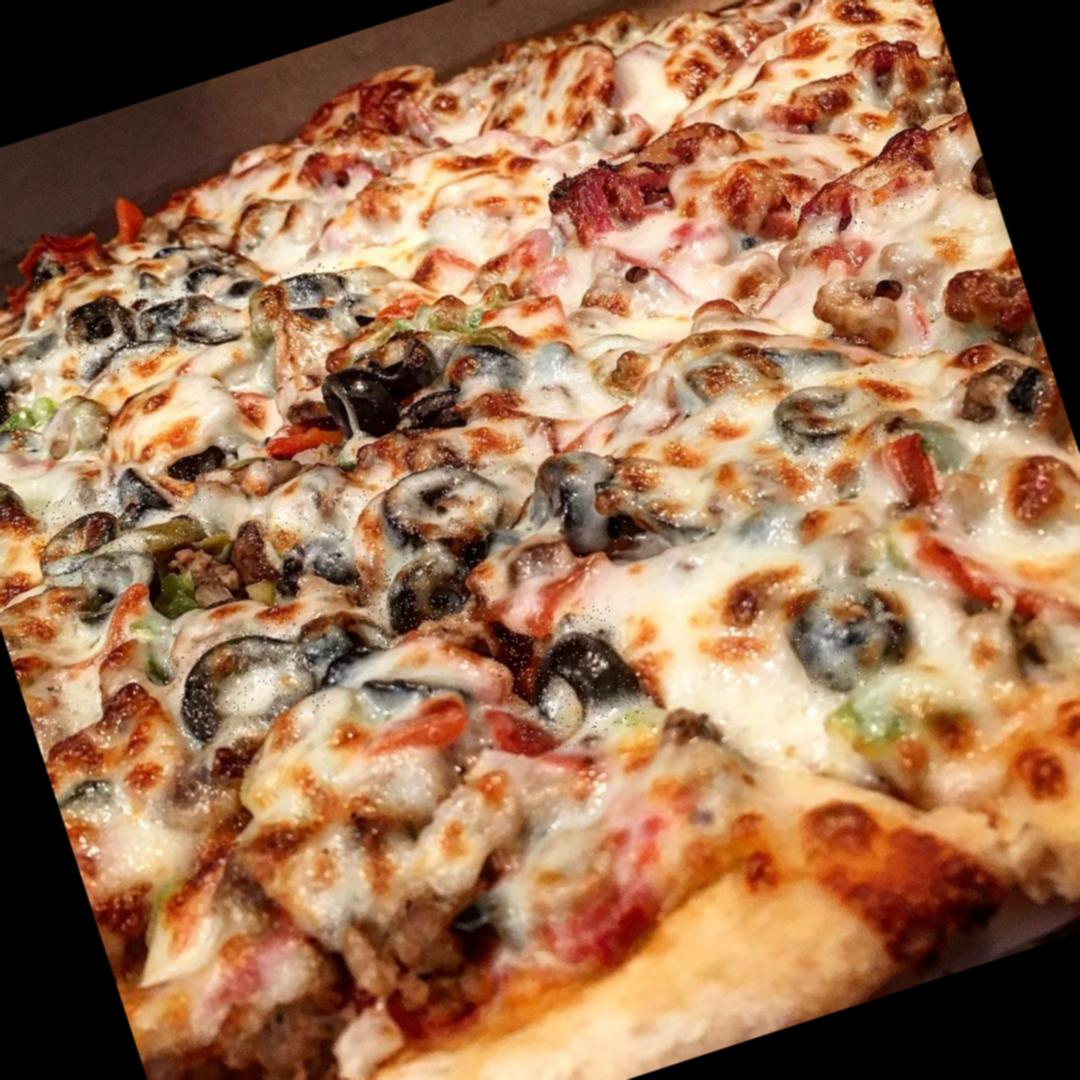Olives: (238, 450, 498, 610), (23, 454, 226, 592), (154, 609, 336, 757), (511, 417, 684, 571), (327, 445, 520, 583), (300, 321, 480, 467), (486, 599, 648, 761), (65, 265, 234, 385), (780, 556, 919, 701), (350, 540, 502, 656), (769, 358, 918, 474), (256, 250, 367, 342), (28, 254, 72, 292), (0, 372, 21, 448)
Pepperoni: (784, 139, 953, 244), (542, 150, 659, 254)
Pizza: (0, 0, 1080, 1080)
